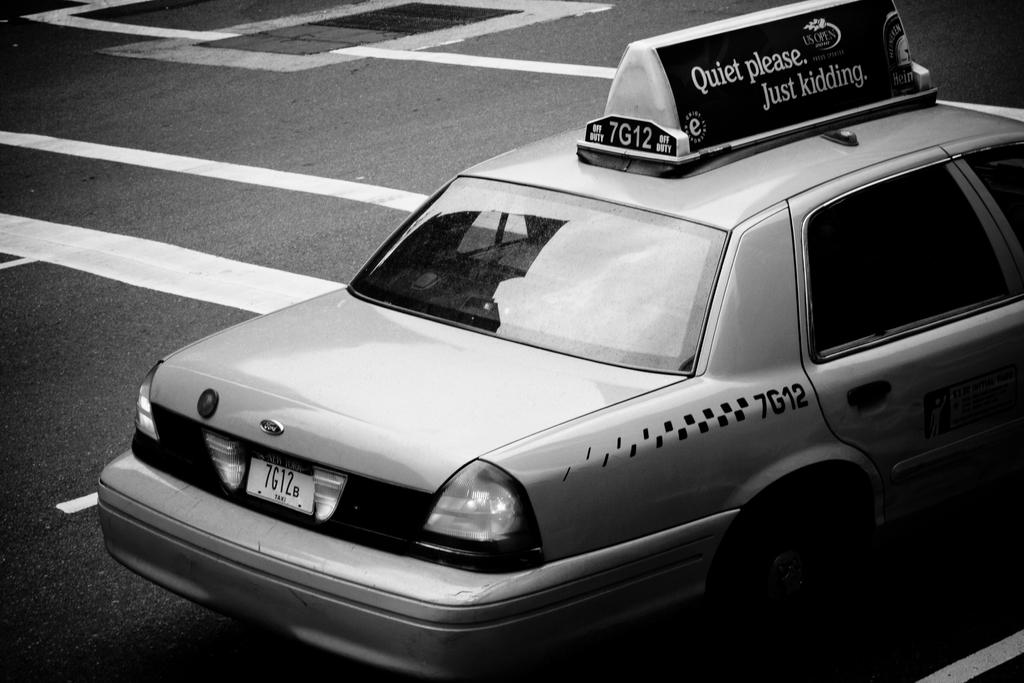taxi: (99, 1, 1024, 683)
